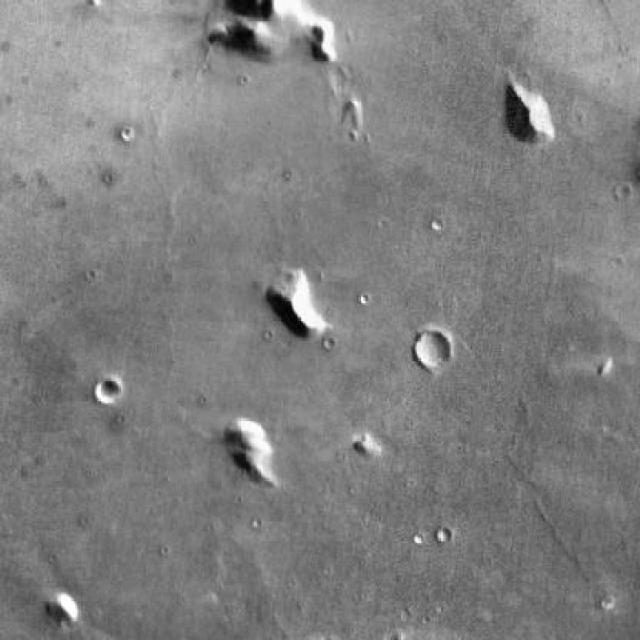crater: (411, 332, 446, 368), (95, 380, 118, 402), (436, 528, 452, 543)
